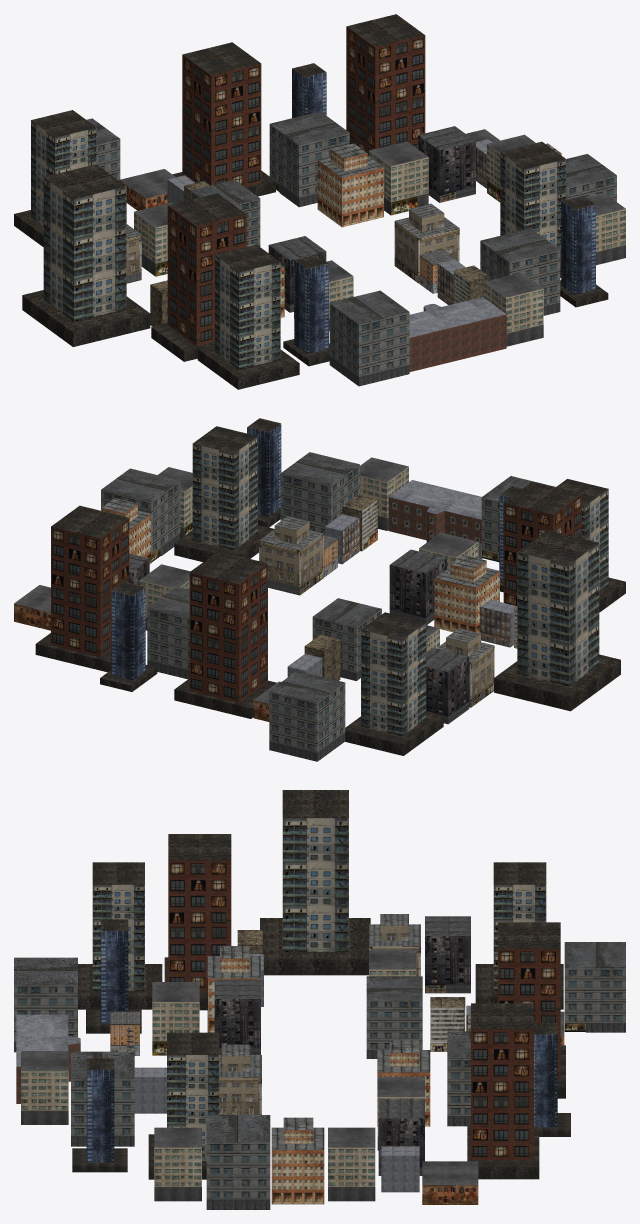
Rendered from Buildings.fbx.
3 renders of one model, top to bottom at view 1: azimuth 30°, elevation 25°; view 2: azimuth 150°, elevation 25°; view 3: azimuth 270°, elevation 25°, orthographic. The views are drawn at different scales.
Parts seen in each view (by area): view 1: Building_41, Building_39, Building_12, Building_22, Building_30, Building_31, Building_05, Building_Red, Building_08, Building_15, Building_09, Building_07 (+21 smaller); view 2: Building_41, Building_39, Building_12, Building_15, Building_05, Building_40, Building_30, Building_07, Building_Red, Building_04, Building_13, Building_27 (+24 smaller); view 3: Building_41, Building_12, Building_30, Building_22, Building_39, Building_34, Building_40, Building_05, Building_15, Building_35, Building_19, Building_31 (+24 smaller).
Part boxes in pixels (x1,y1,x2,y2): Building_41: (22,164,150,346); Building_39: (172,42,275,196); Building_12: (346,14,425,155); Building_22: (197,244,299,389); Building_30: (151,193,246,361); Building_31: (329,290,409,386); Building_05: (500,141,565,277); Building_Red: (409,297,506,371); Building_08: (269,111,349,207); Building_15: (14,110,96,246); Building_09: (317,143,383,227); Building_07: (480,228,560,315); Building_41: (494,530,620,711); Building_39: (174,551,276,718); Building_12: (35,505,129,672); Building_15: (345,612,443,755); Building_05: (174,426,274,561); Building_40: (269,670,345,761); Building_30: (503,481,581,605); Building_07: (280,452,359,535); Building_Red: (388,480,481,543); Building_04: (259,516,323,595); Building_13: (100,581,157,691); Building_27: (434,555,499,633); Building_41: (260,790,370,975); Building_12: (467,1003,539,1179); Building_30: (164,834,231,1010); Building_22: (78,862,162,1009); Building_39: (497,922,565,1098); Building_34: (206,1115,270,1209); Building_40: (564,942,625,1032); Building_05: (148,1032,219,1179); Building_15: (475,862,563,1009); Building_35: (271,1117,324,1204); Building_19: (366,976,422,1058); Building_31: (14,957,77,1052).
Size of the model in its own units: 241 by 60.96 by 225.
